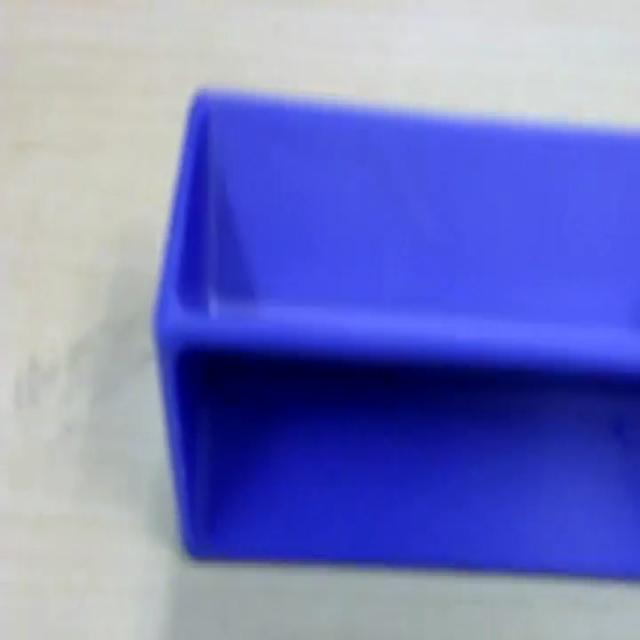blue_block: (151, 84, 638, 580)
